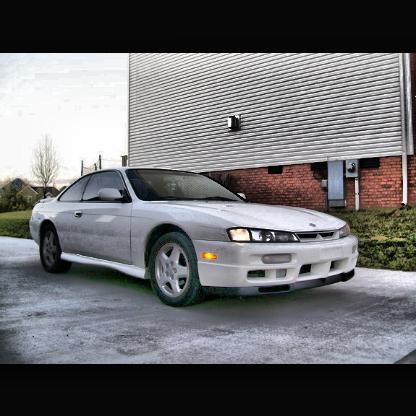Nissan 240SX Coupe 1998: (31, 167, 359, 309)
